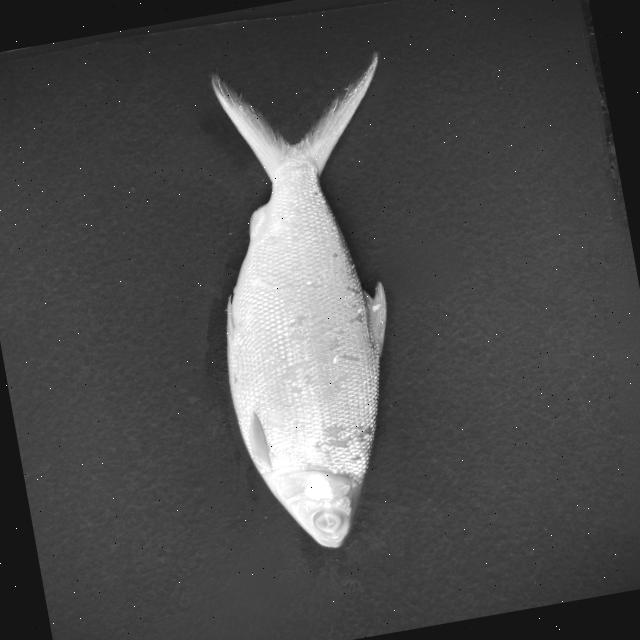880 g: (174, 44, 462, 561)
